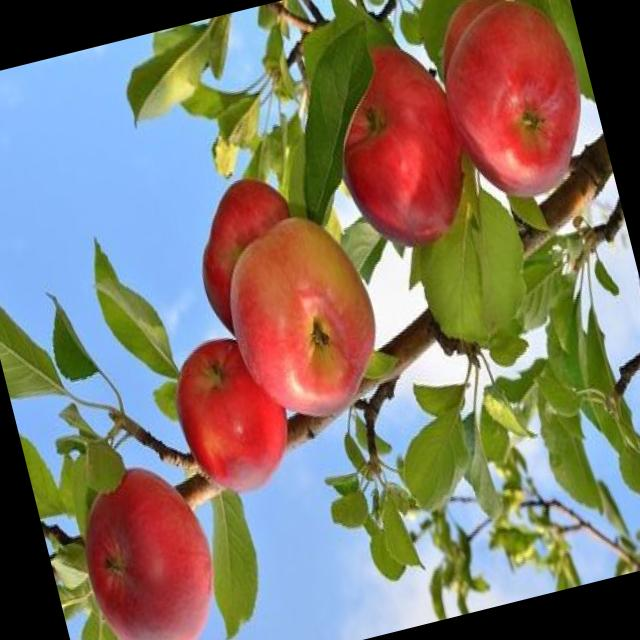Tao: (312, 32, 490, 260), (222, 208, 395, 424), (428, 0, 597, 201), (178, 162, 336, 360), (66, 453, 229, 640), (170, 324, 304, 505)
